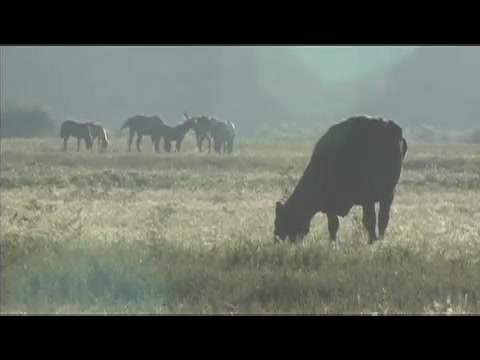cow: (270, 115, 411, 247), (154, 113, 197, 155), (122, 115, 165, 153), (60, 121, 95, 154), (194, 114, 221, 151), (214, 120, 238, 152), (91, 121, 112, 152)
